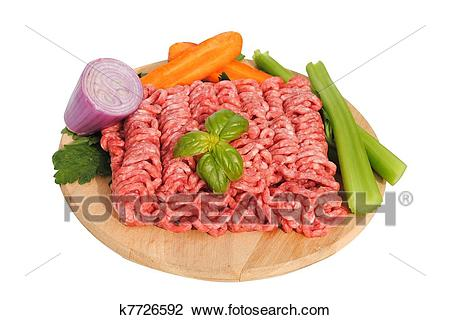ground_beef: (106, 75, 359, 234)
